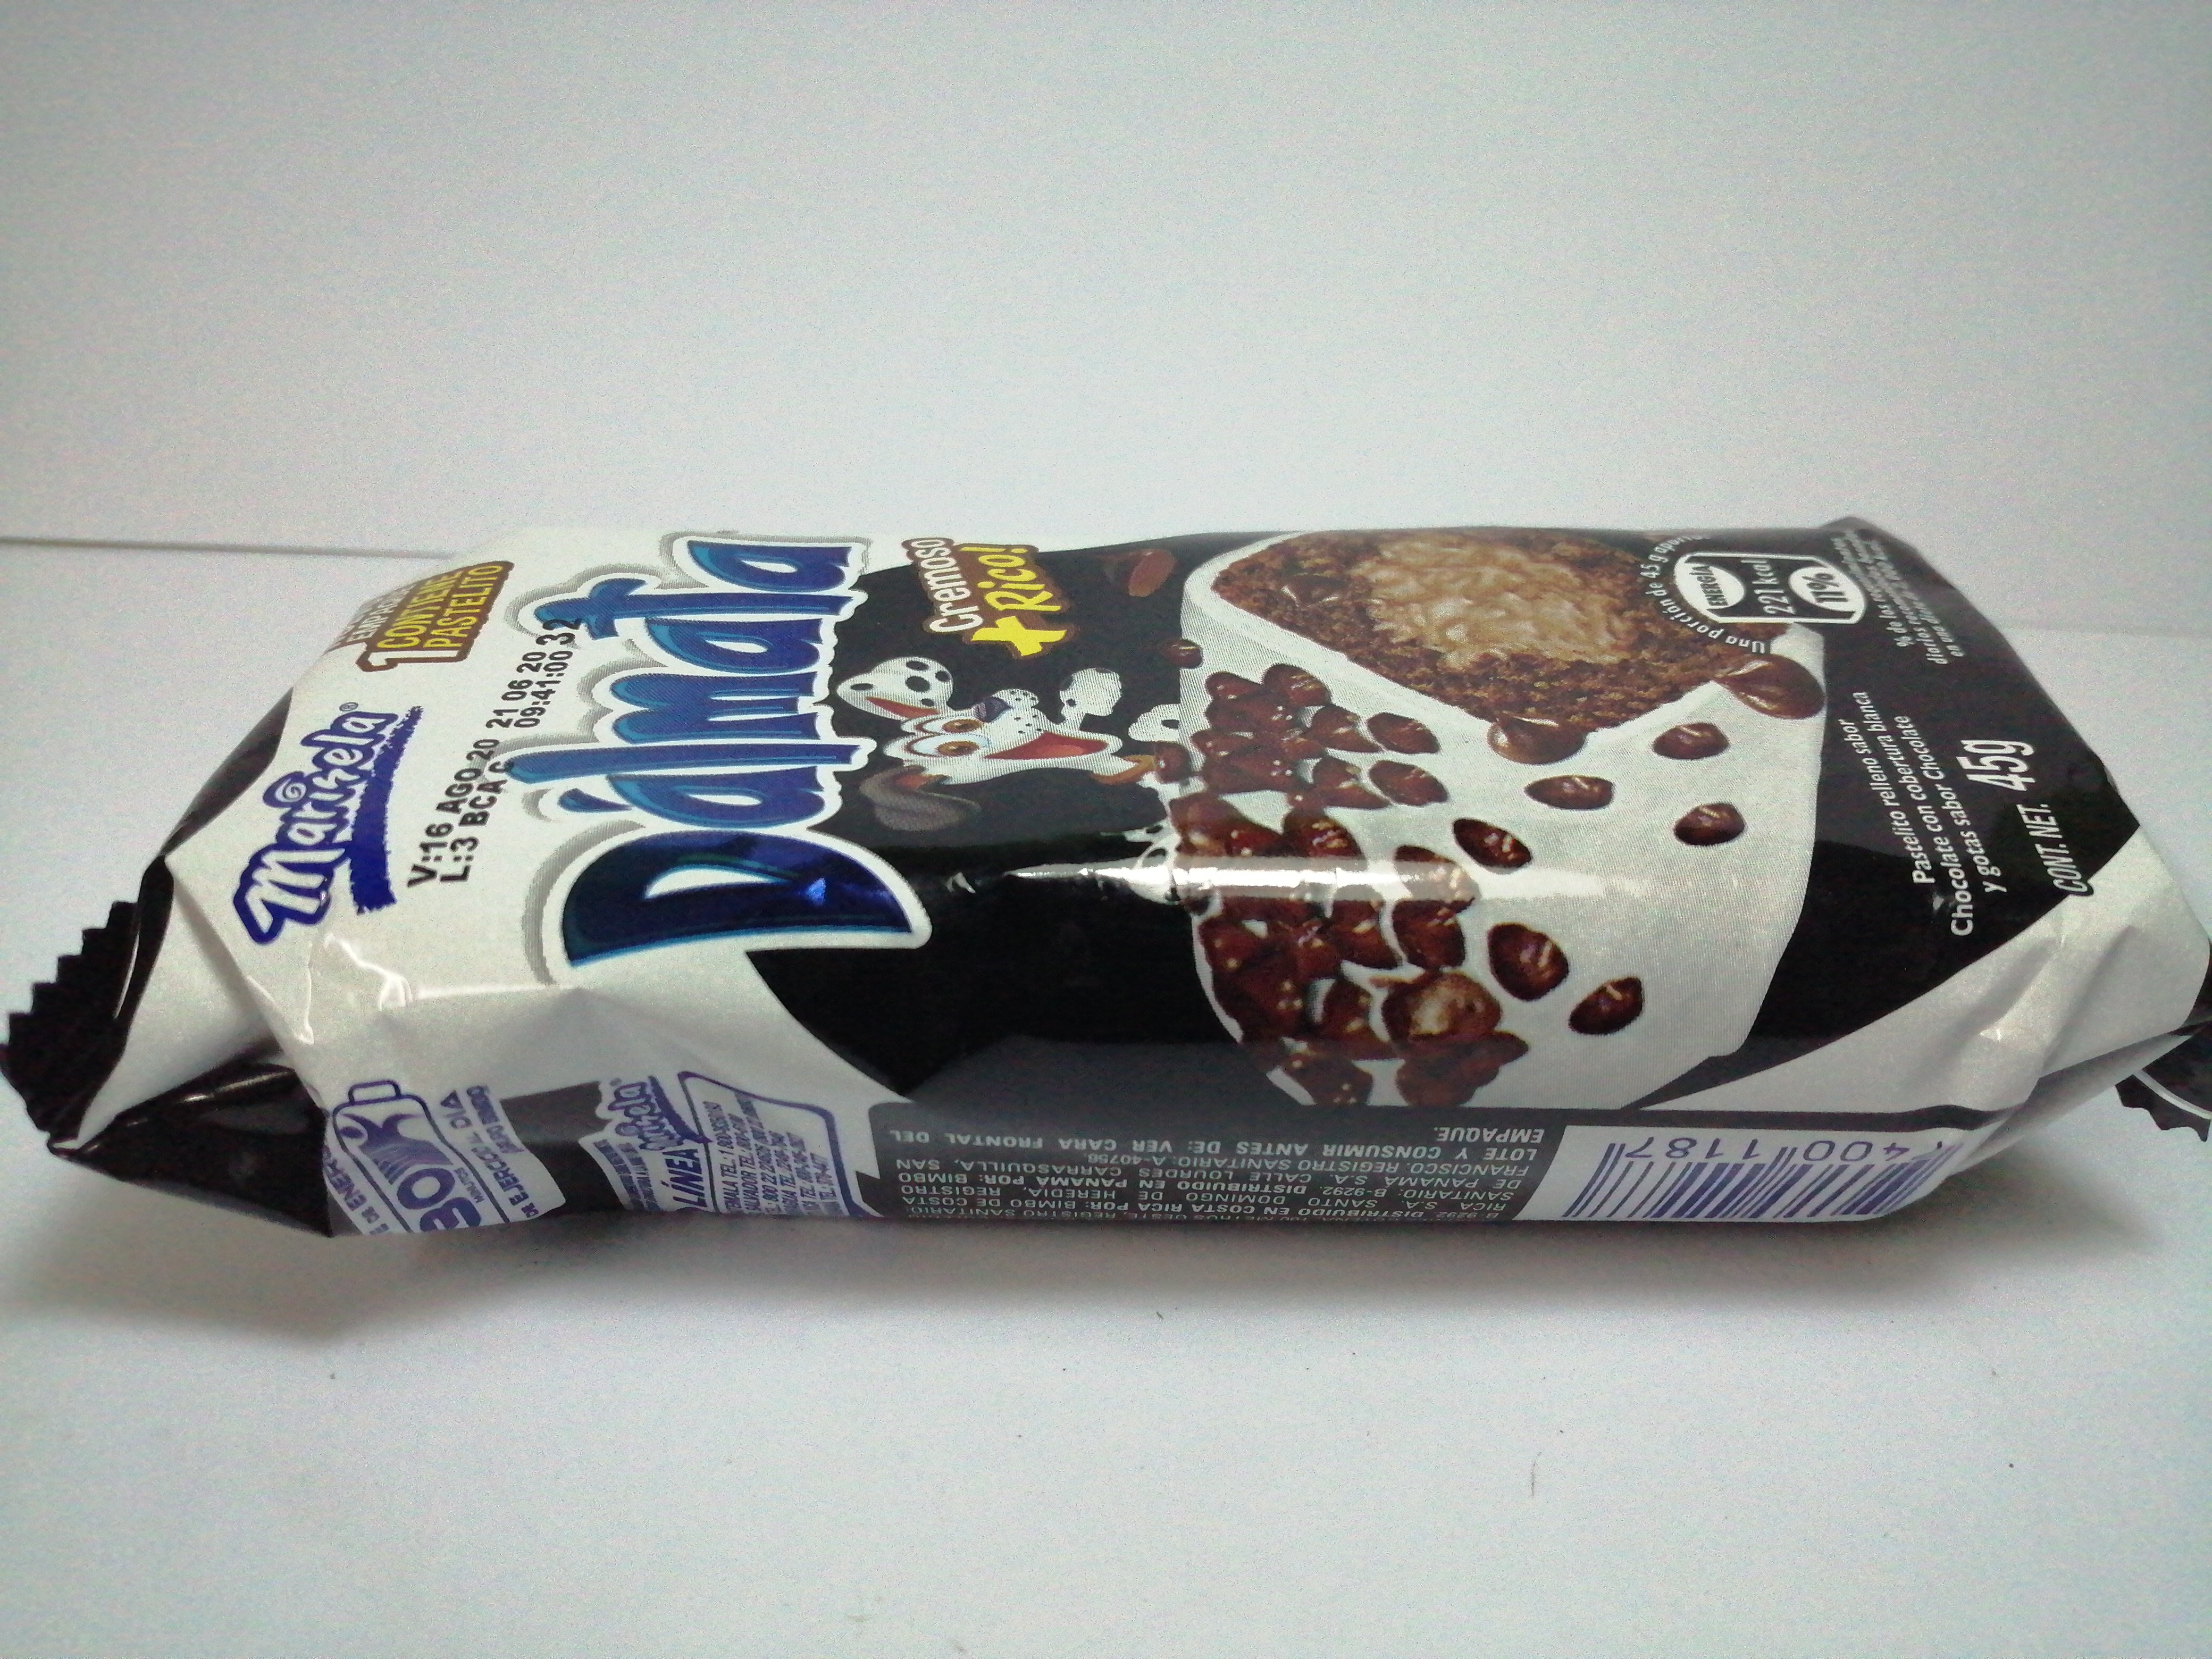dalmata: (2, 511, 2212, 1281)
